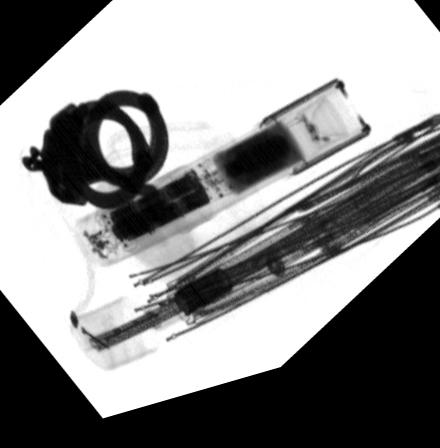Baton: (69, 95, 374, 276)
HandCuffs: (17, 95, 170, 218)
